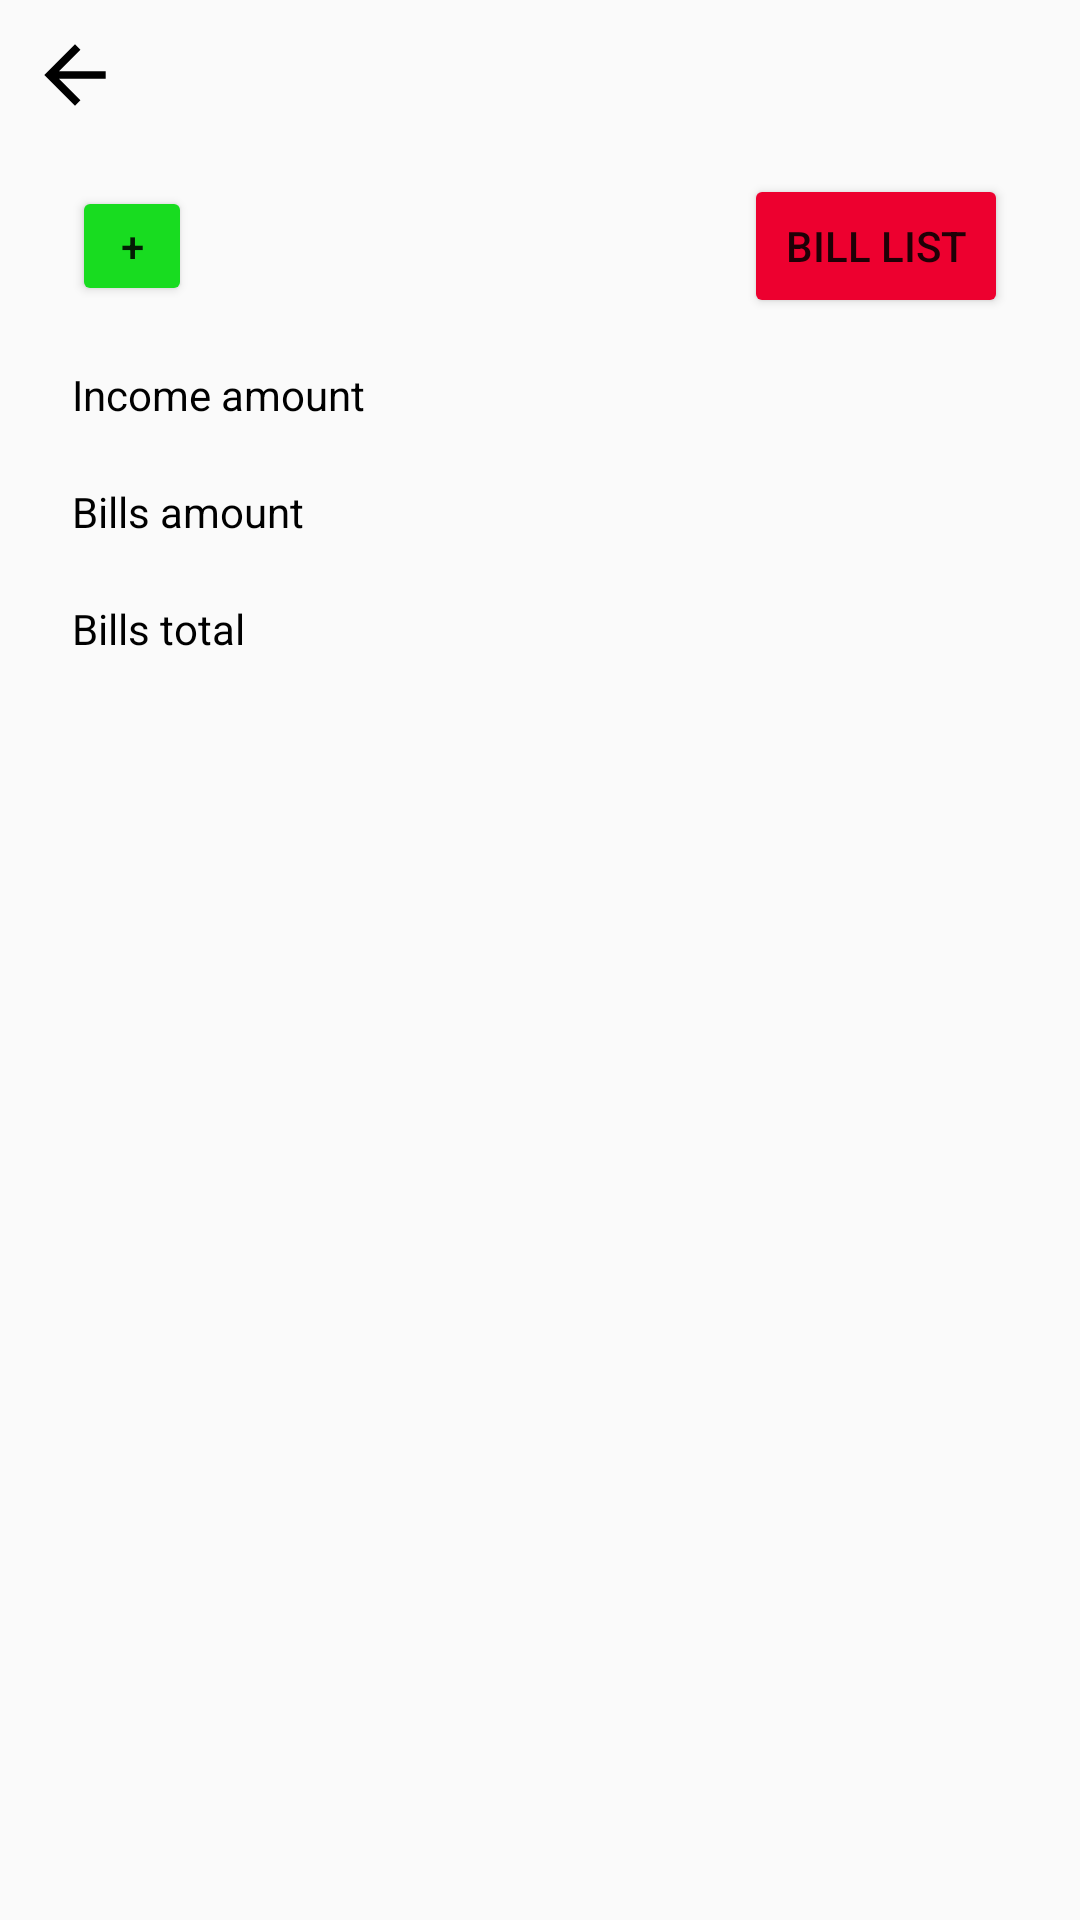

Screen size 1080x1920. Icon name, then its box in pixels as (x1, y1, x2, y2):
back arrow: (44, 44, 106, 106)
